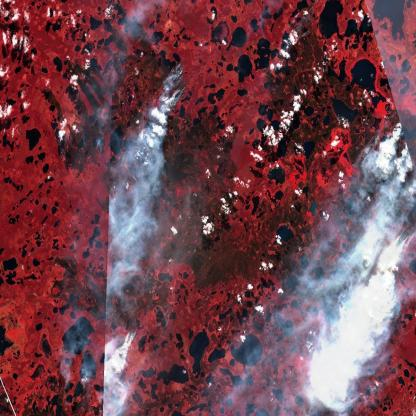fire: (164, 57, 188, 115), (60, 363, 93, 398), (396, 221, 416, 255), (117, 326, 138, 348)
